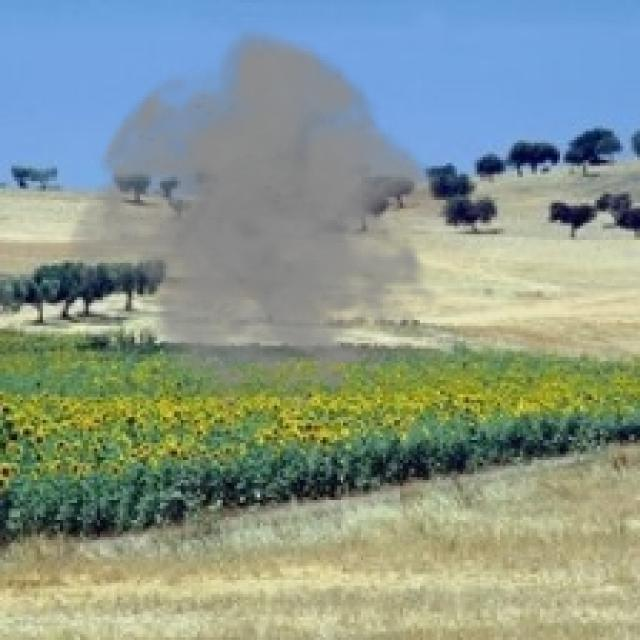smoke: (60, 26, 463, 414)
